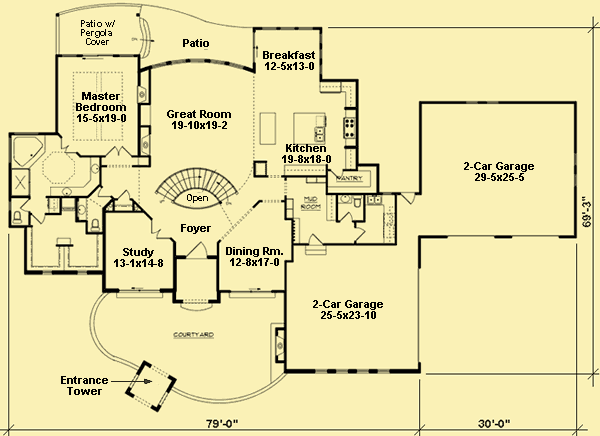door: (102, 142, 131, 159), (184, 241, 207, 261), (55, 137, 77, 157), (150, 220, 168, 241), (339, 211, 357, 226), (94, 186, 112, 201), (399, 190, 415, 206), (353, 225, 366, 243), (306, 233, 325, 245), (31, 211, 48, 224), (114, 188, 129, 200), (18, 199, 31, 212)
kitchen bar: (290, 110, 327, 145)
large sink: (88, 216, 101, 238), (12, 209, 25, 224), (352, 191, 362, 209)
small sink: (89, 156, 101, 182), (77, 197, 89, 220), (48, 187, 77, 196), (338, 193, 352, 204)
stairs: (154, 164, 239, 210)
twin sink: (365, 196, 384, 208)
windows: (310, 363, 392, 376), (255, 22, 320, 36), (114, 283, 165, 300), (228, 286, 279, 300), (70, 269, 92, 279), (38, 267, 55, 279)
